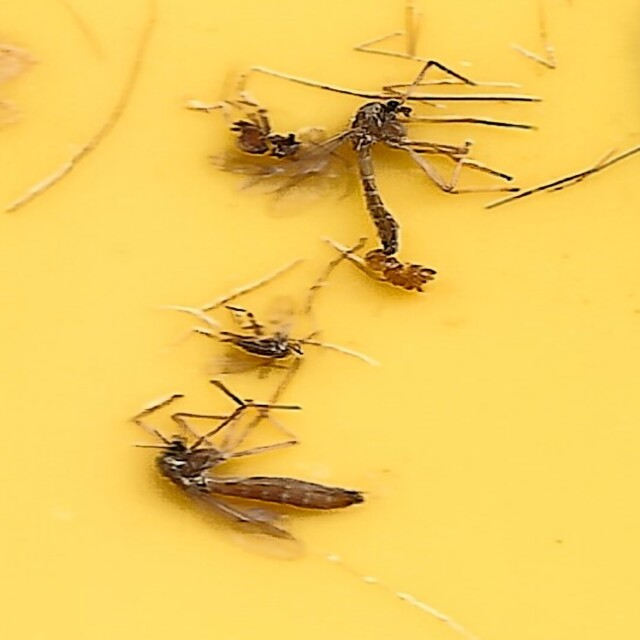Nematocera: (120, 385, 377, 549), (348, 91, 520, 252), (206, 305, 324, 388), (217, 91, 319, 169)
